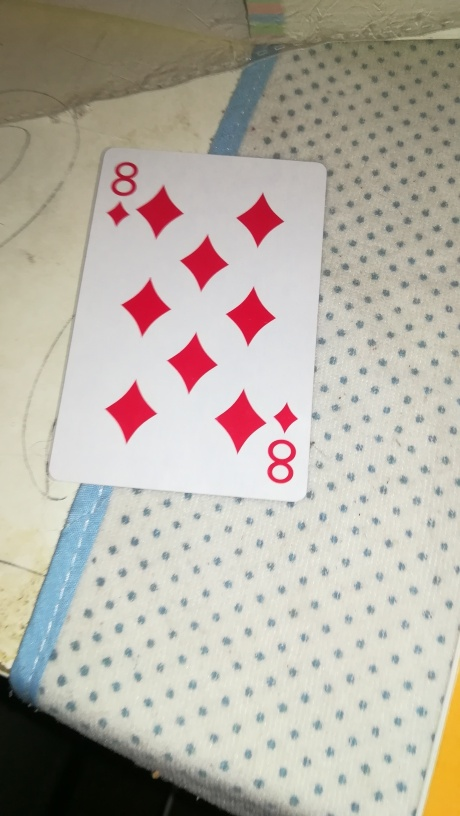fk 8: (42, 145, 325, 510)
